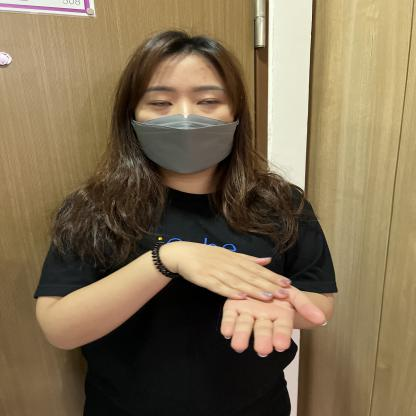Love: (105, 206, 337, 360)
